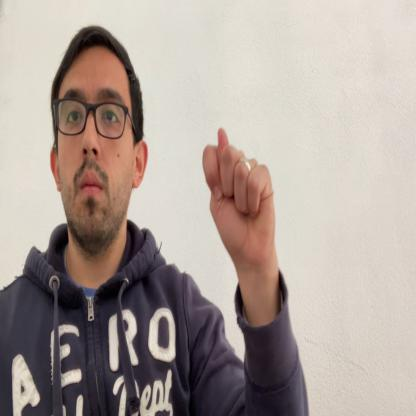T: (203, 123, 275, 273)
